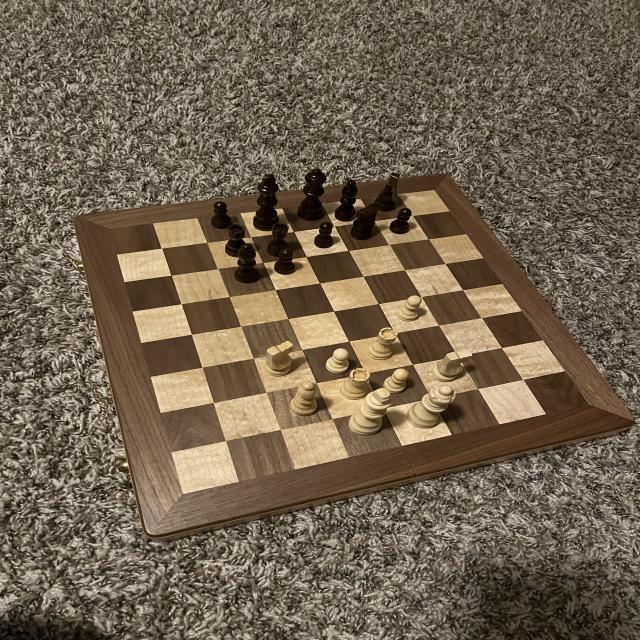bishop: (333, 177, 361, 223), (234, 242, 260, 284)
black-bishop: (252, 170, 282, 231)
black-king: (348, 202, 379, 241), (375, 170, 403, 210)
black-knight: (272, 247, 300, 276), (210, 197, 233, 230), (388, 208, 416, 235), (312, 219, 335, 249)
black-pawn: (297, 167, 328, 224)
black-queen: (222, 223, 248, 257), (266, 222, 292, 256)
black-rook: (283, 379, 321, 418)
white-bishop: (348, 385, 393, 436)
white-king: (428, 346, 470, 384), (262, 340, 297, 379)
white-knight: (395, 292, 425, 324), (382, 366, 410, 396), (325, 346, 351, 374)
white-pawn: (406, 384, 457, 429)
white-queen: (368, 326, 400, 362), (338, 368, 372, 401)
